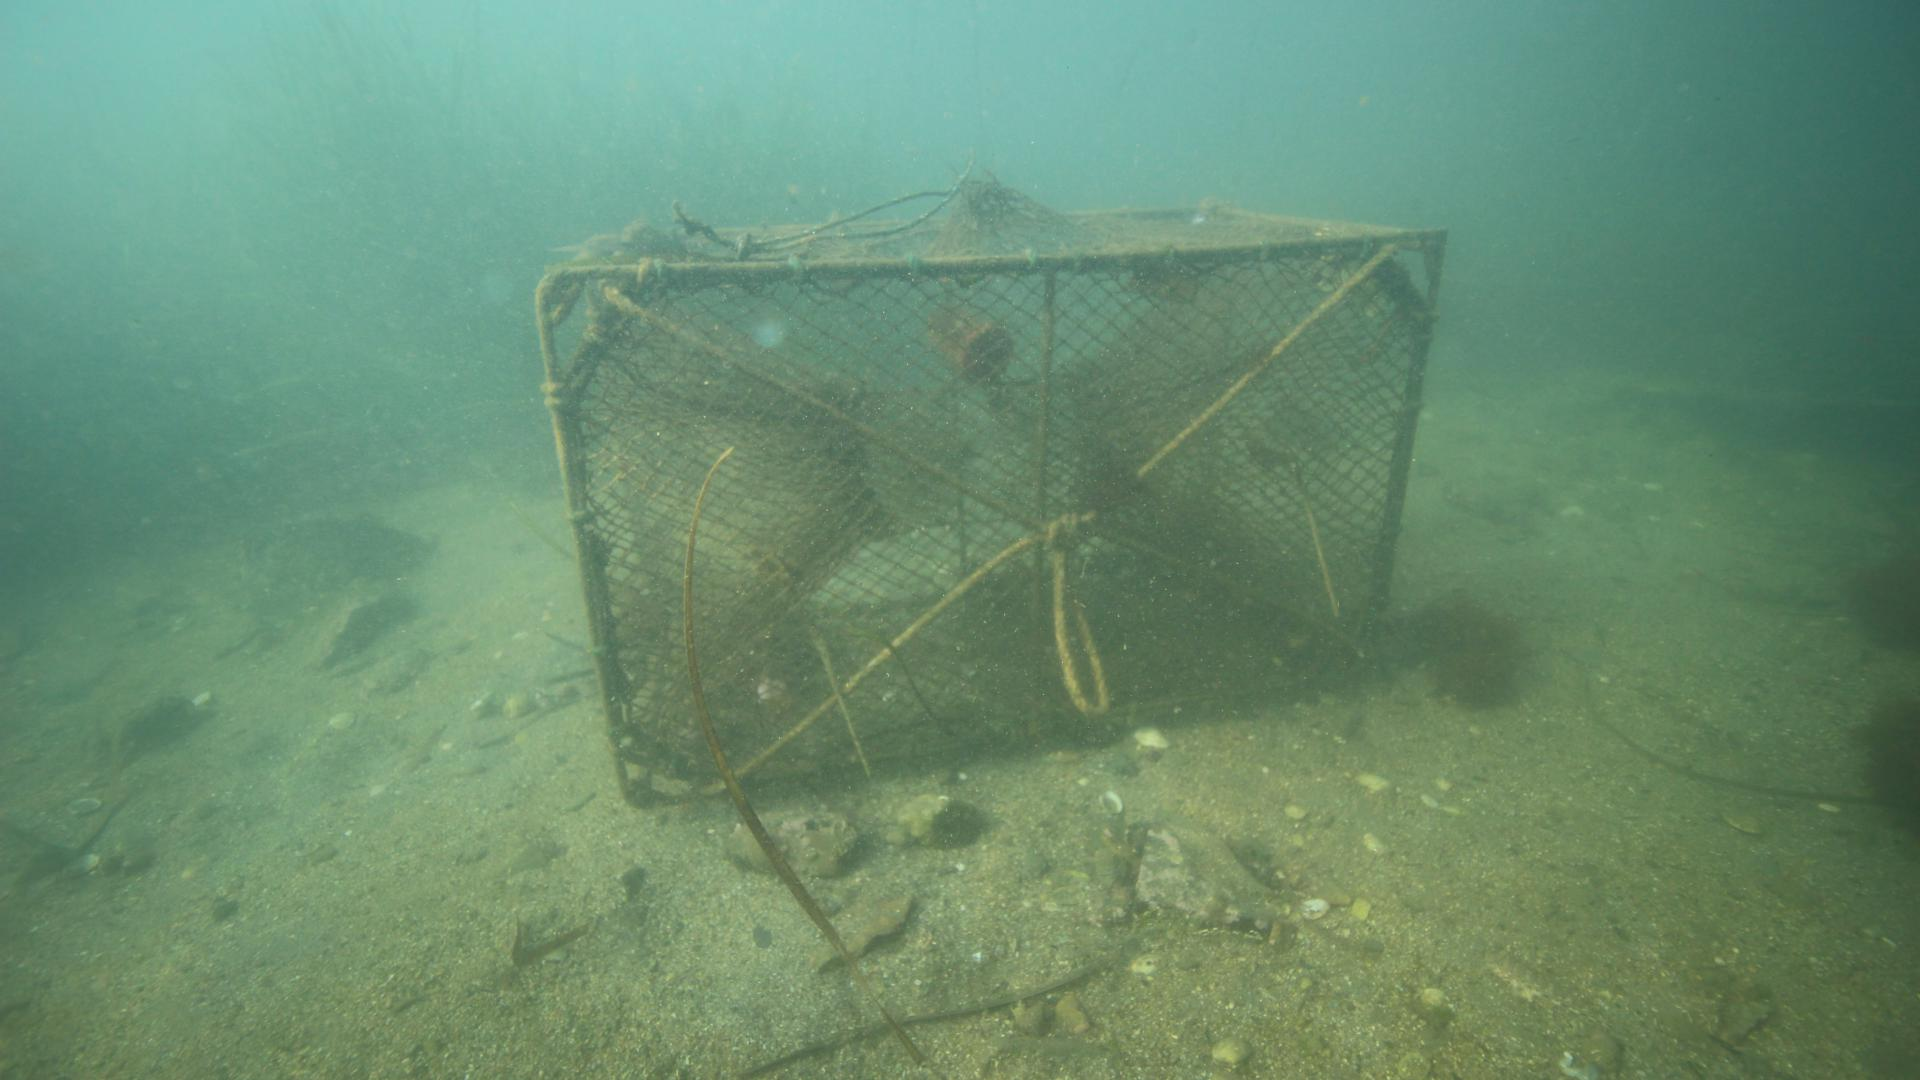rectangular fish trap: (521, 193, 1457, 818)
